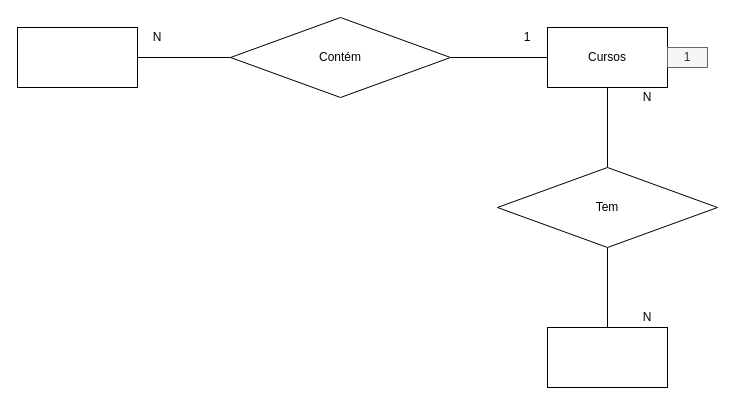
The diagram is 735 pixels wide and 405 high, and some of its shapes have lost their labels. Here are the shapes that lost their labels. From the top down, the centre of each, then its label:
At point 77,57: "Disciplinas".
At point 607,357: "Alunos".
